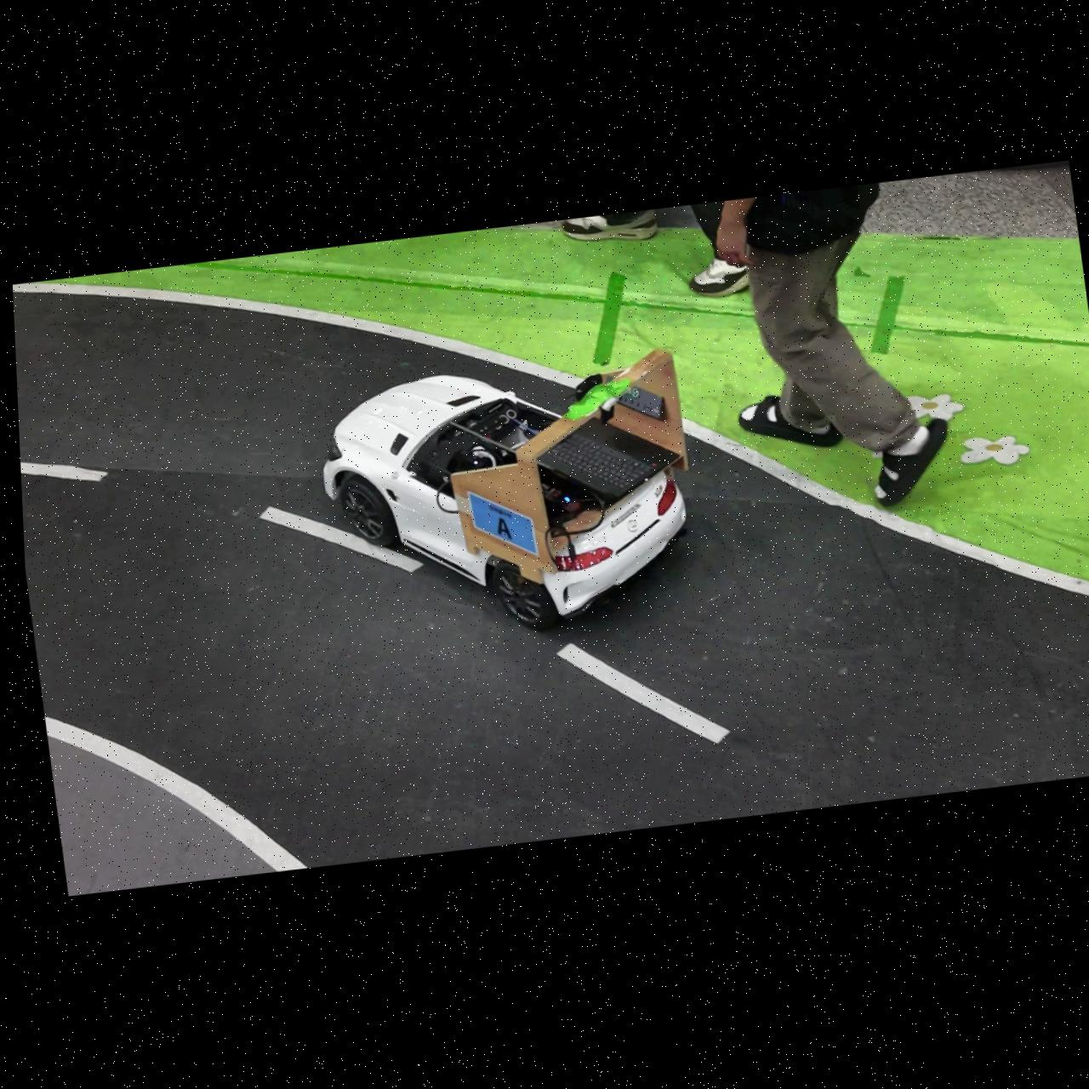broken_line: (557, 644, 729, 742), (260, 506, 422, 572), (21, 462, 107, 482)
